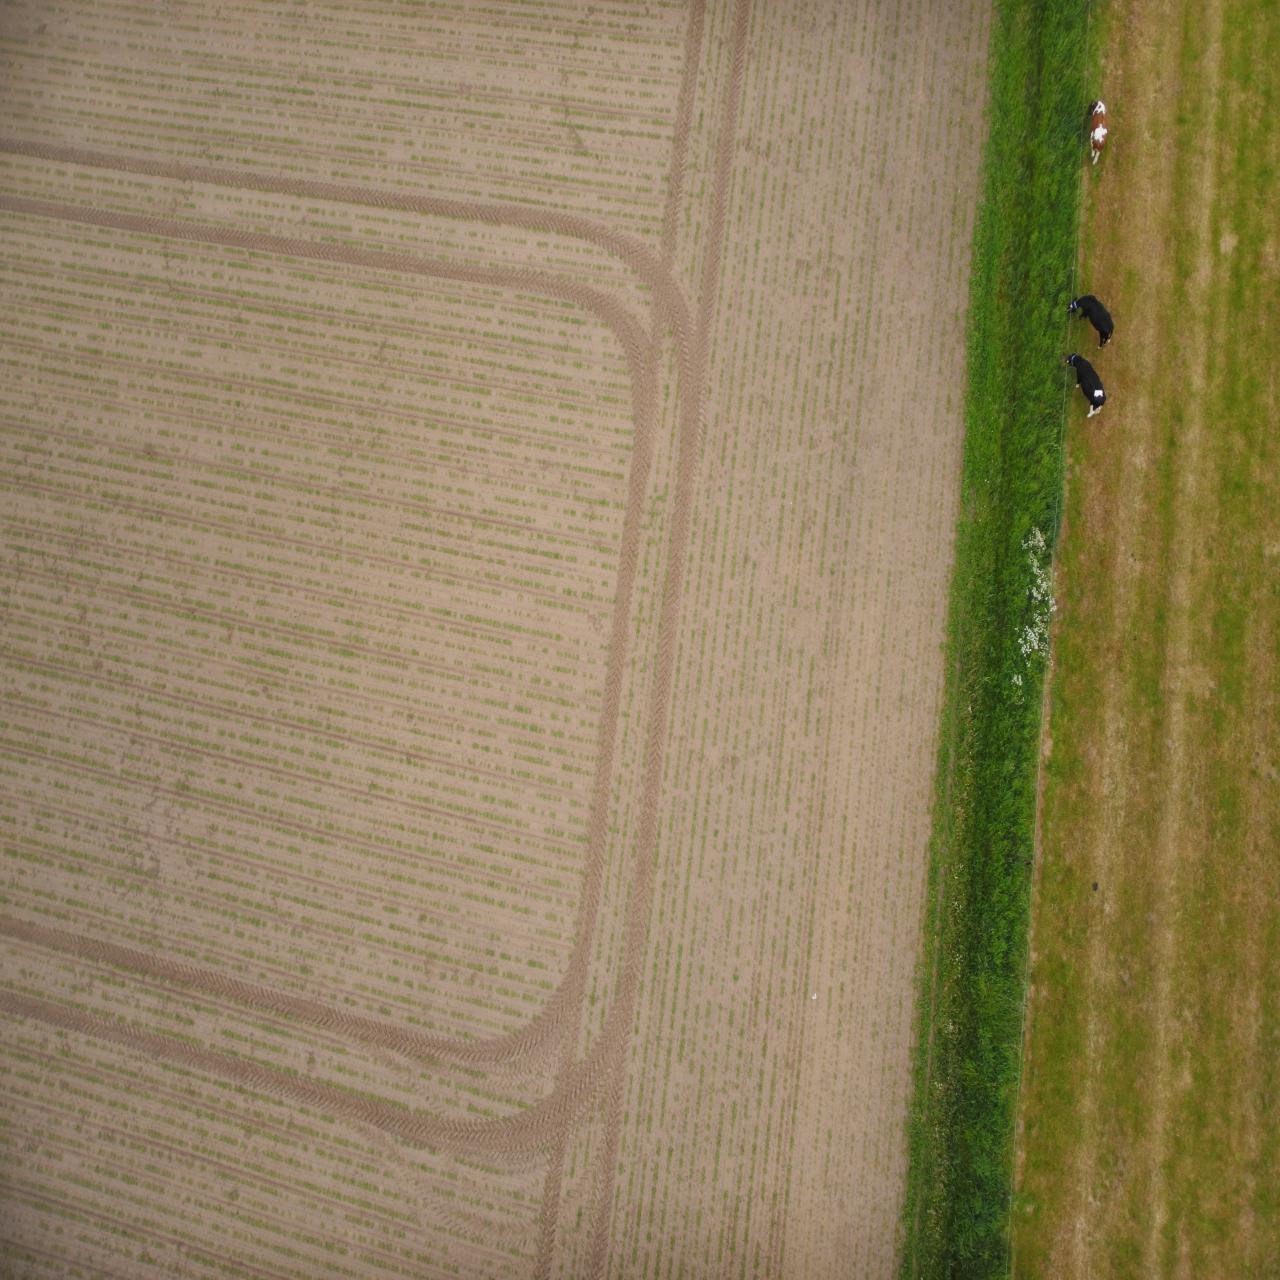cow: (173, 862, 213, 927), (165, 931, 210, 986), (171, 1114, 192, 1180)
